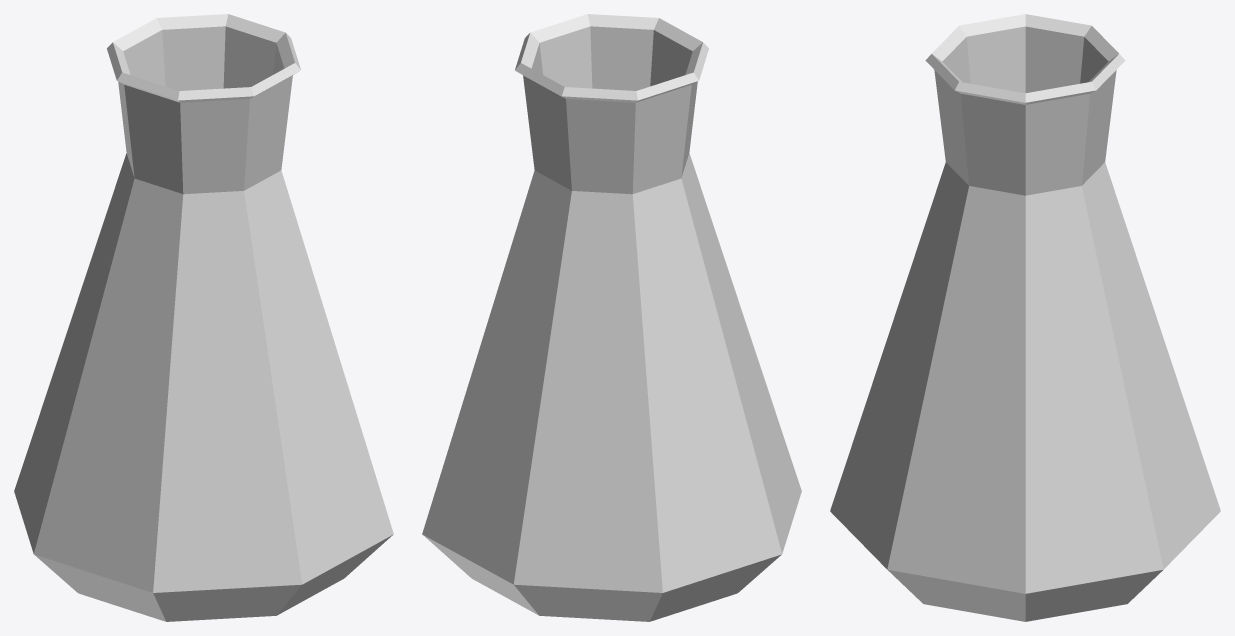
The model's file is Potion E.fbx.
3 views of the same model, side by side, from view 1: azimuth 30°, elevation 25°; view 2: azimuth 150°, elevation 25°; view 3: azimuth 270°, elevation 25° (orthographic).
Parts seen in each view (by area): view 1: Circle.013; view 2: Circle.013; view 3: Circle.013.
Boxes of the visible parts, left/top/right/bottom form: Circle.013: left=14, top=14, right=393, bottom=621; Circle.013: left=422, top=14, right=801, bottom=621; Circle.013: left=830, top=14, right=1220, bottom=621.
Size of the model in its own units: 28.22 by 40.39 by 28.22.
2 materials, 2 textured.
